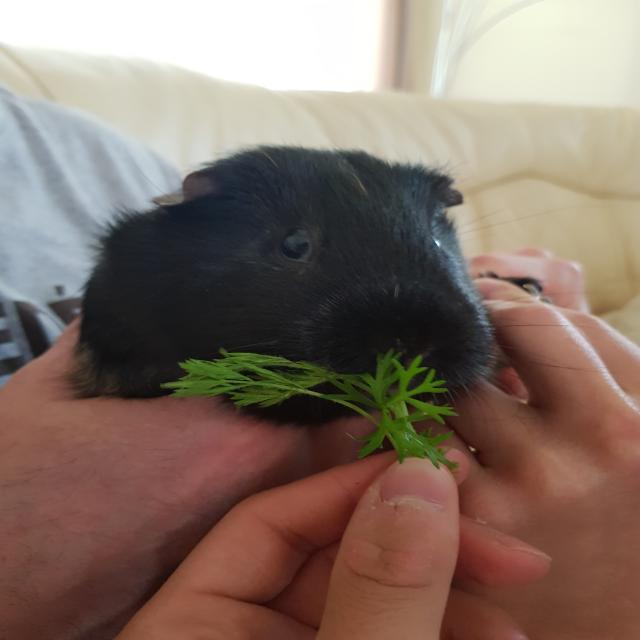guinea pig: (73, 142, 498, 429)
